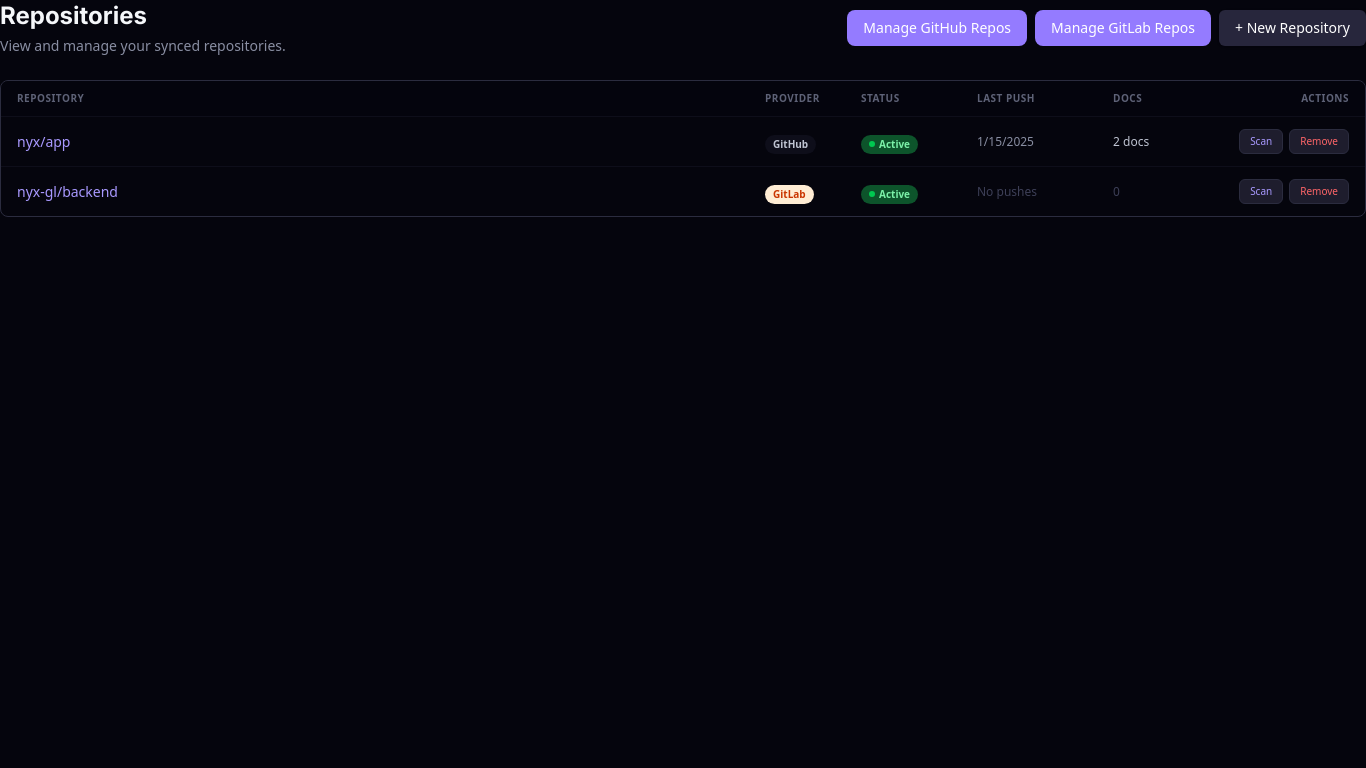
Repositories — Manage Repos button › closes RepoPickerModal when Cancel is clicked
Click the button with test id "manage-repos-button": {"x": 937, "y": 28} x1=847 y1=10 x2=1027 y2=46
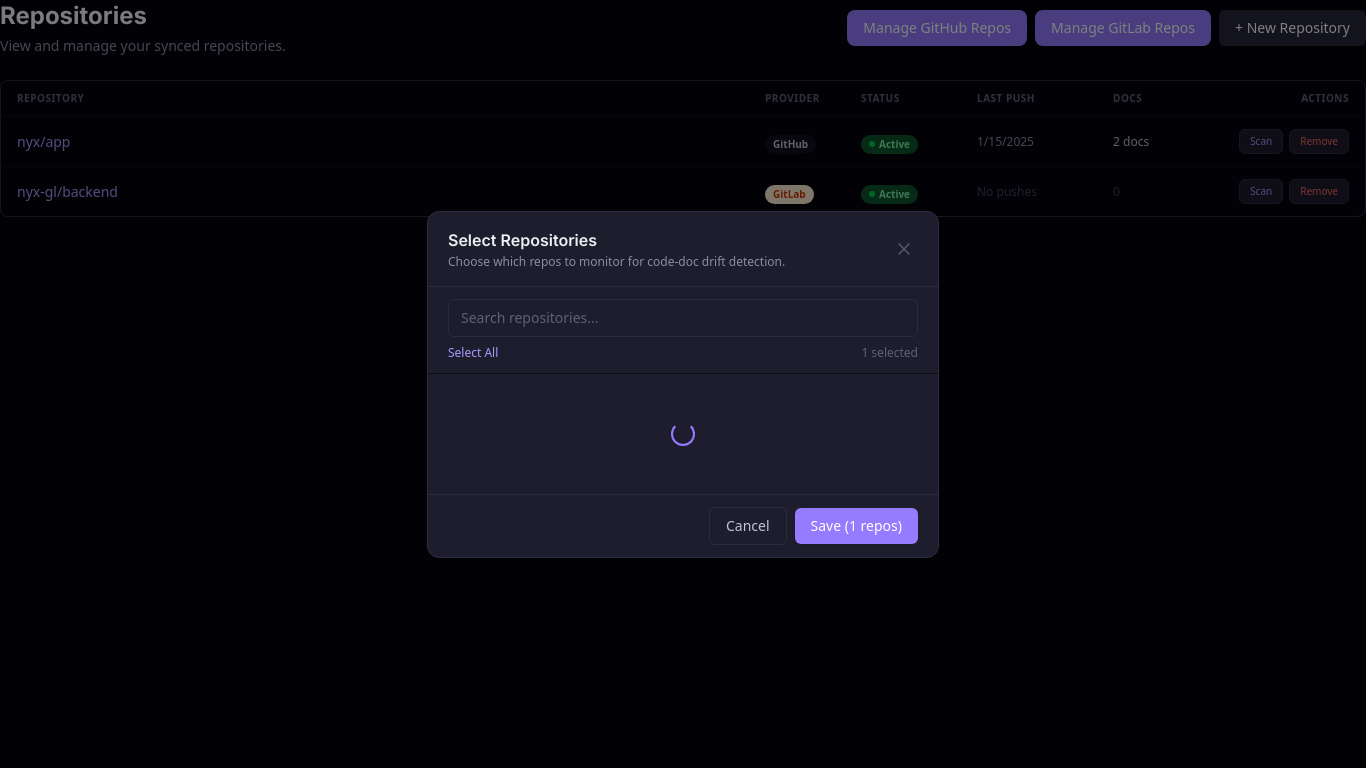
Expected: the heading "Select Repositories" is shown, x1=448 y1=230 x2=597 y2=250
Click the button "Cancel": {"x": 748, "y": 526} x1=709 y1=506 x2=787 y2=544
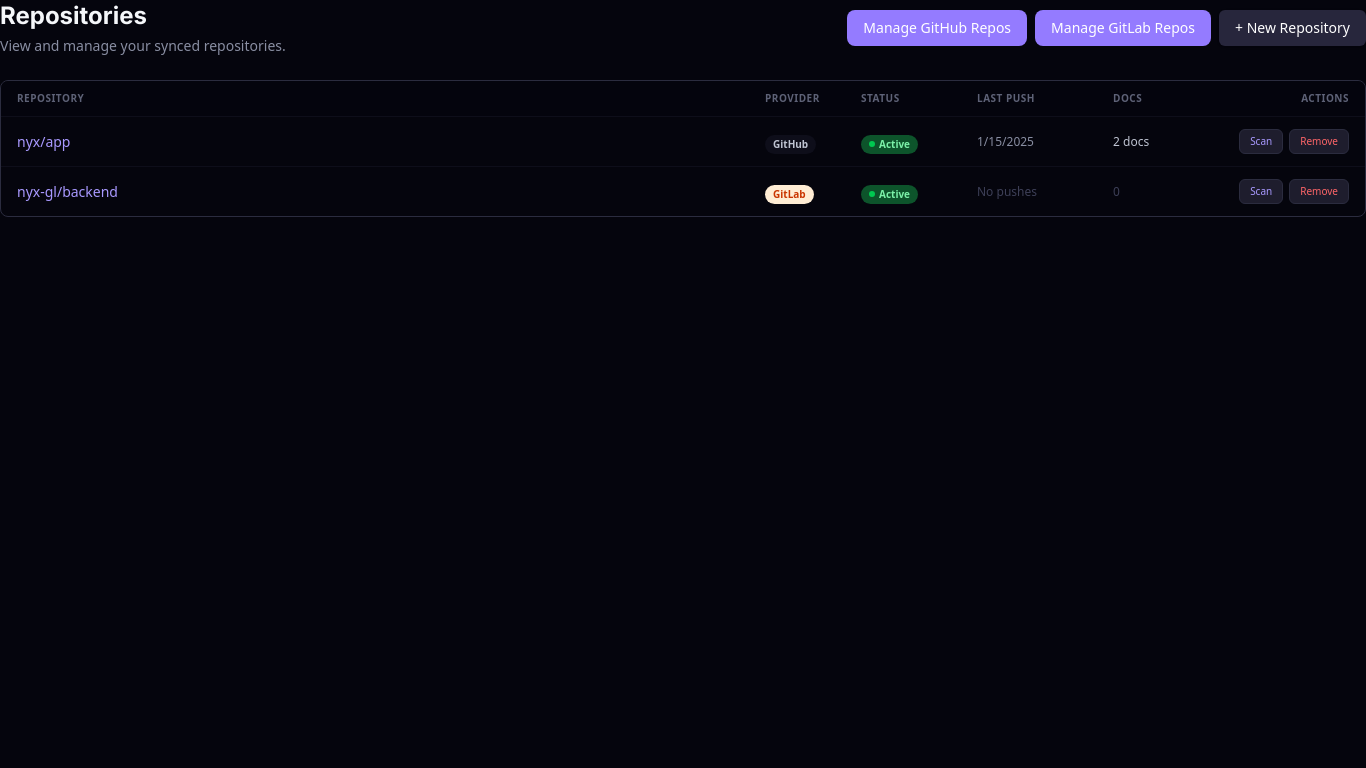
Expected: the heading "Select Repositories" is gone
